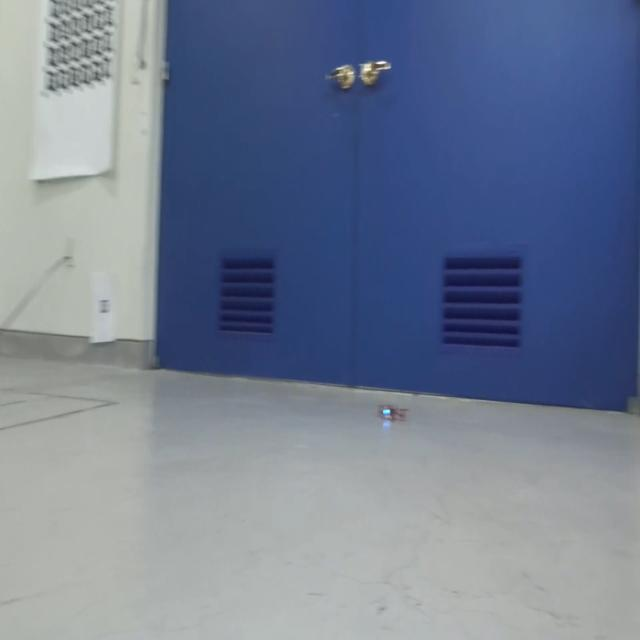crazyflie: (375, 395, 411, 426)
